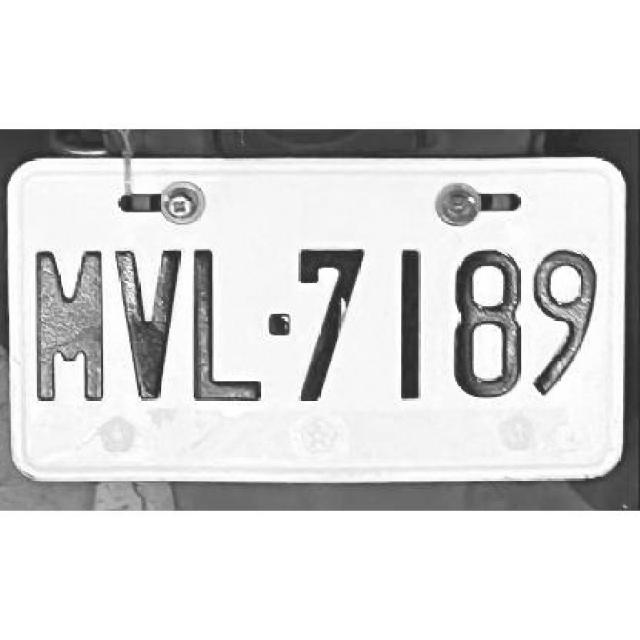-: (269, 310, 291, 332)
1: (397, 240, 428, 397)
7: (294, 240, 369, 406)
8: (449, 242, 525, 402)
9: (523, 243, 599, 395)
L: (192, 248, 263, 395)
M: (36, 243, 106, 408)
V: (114, 243, 184, 400)
